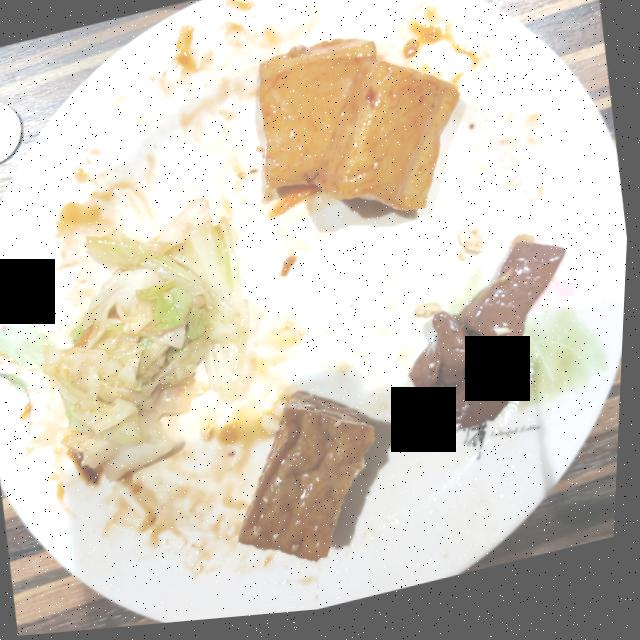cabbage: (45, 201, 252, 482)
coin: (0, 102, 23, 162)
creamy tofu: (260, 45, 460, 217)
egg tofu: (244, 396, 379, 566)
pig blood curd: (413, 250, 568, 449)
